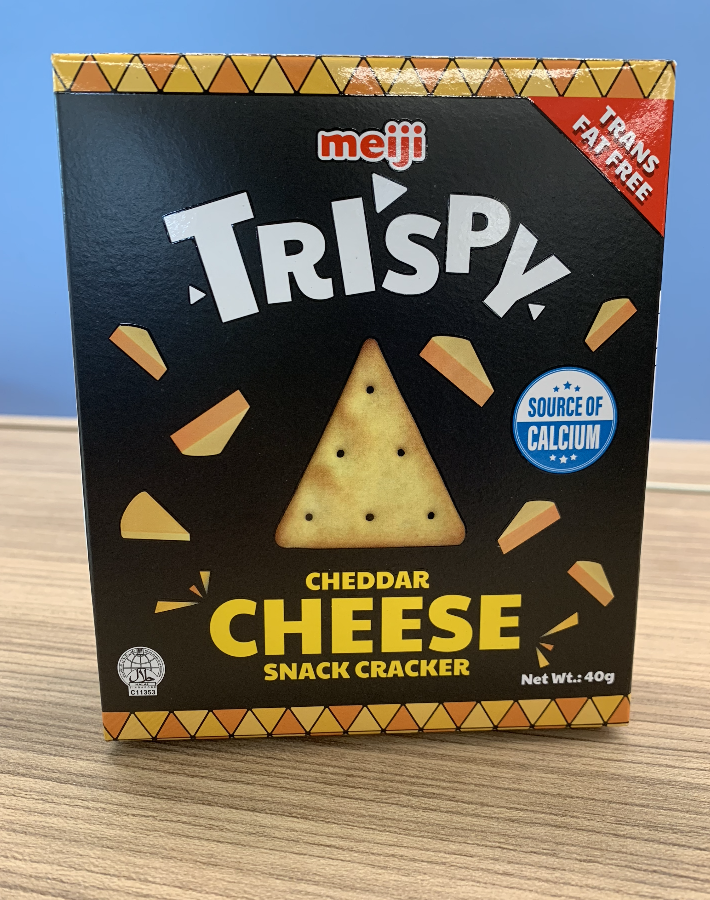crackers_50g: (108, 96, 639, 703)
